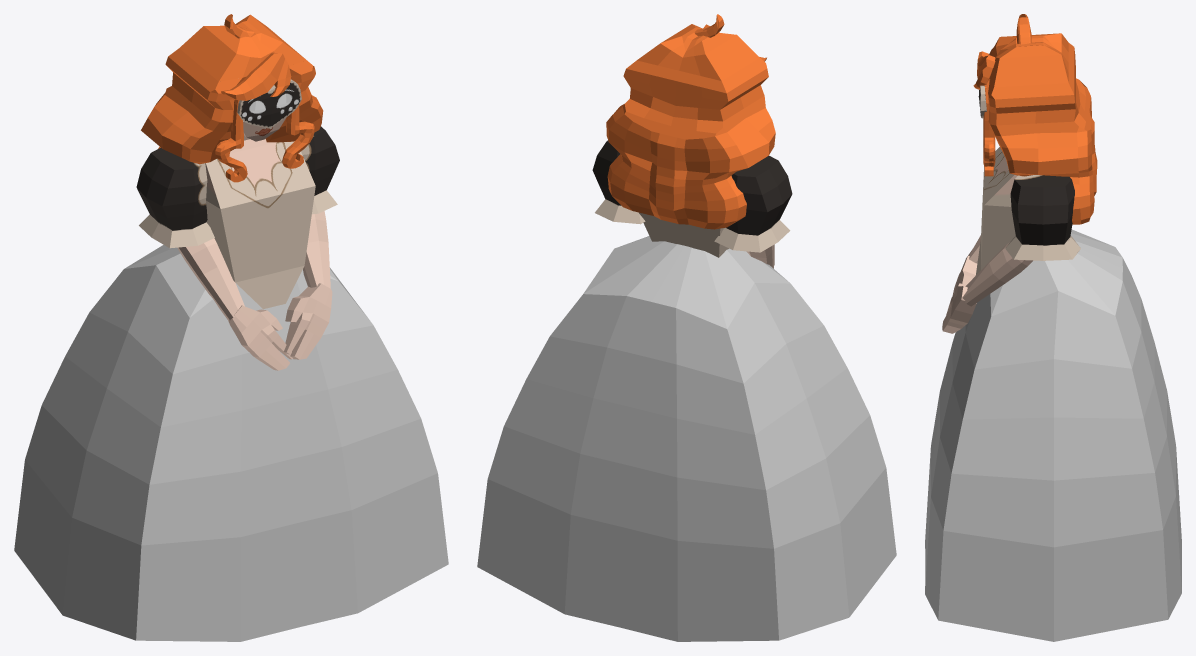
The model's file is Maid.fbx.
The picture shows the model from 3 angles, left to right: view 1: azimuth 30°, elevation 25°; view 2: azimuth 150°, elevation 25°; view 3: azimuth 270°, elevation 25°; orthographic projection. The views are drawn at different scales.
Visible parts, largest first — view 1: Cube.002, Cube.005, Cube, Cube.017, Cube.025, Cube.008; view 2: Cube.002, Cube.005, Cube.025, Cube; view 3: Cube.002, Cube.005, Cube.025, Cube.017, Cube.
Boxes of the visible parts, x1,y1,x2,y2 form: Cube.002: [14, 245, 448, 641]; Cube.005: [141, 14, 323, 182]; Cube: [205, 135, 315, 309]; Cube.017: [177, 211, 332, 370]; Cube.025: [136, 126, 339, 248]; Cube.008: [237, 79, 301, 128]; Cube.002: [477, 236, 896, 641]; Cube.005: [606, 14, 775, 229]; Cube.025: [592, 140, 792, 252]; Cube: [639, 212, 728, 257]; Cube.002: [925, 229, 1181, 641]; Cube.005: [973, 14, 1097, 224]; Cube.025: [1005, 175, 1080, 260]; Cube.017: [942, 235, 1032, 333]; Cube: [975, 147, 1017, 275].
Bounding box in the file's own units: 155 × 255 × 109.
